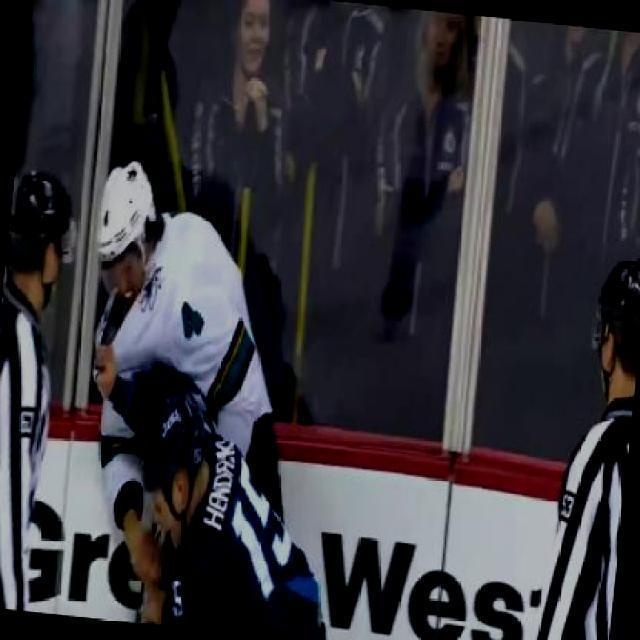fight: (48, 164, 400, 638)
non-fight: (528, 247, 638, 638), (0, 157, 88, 612), (368, 6, 492, 259), (172, 0, 316, 206)
